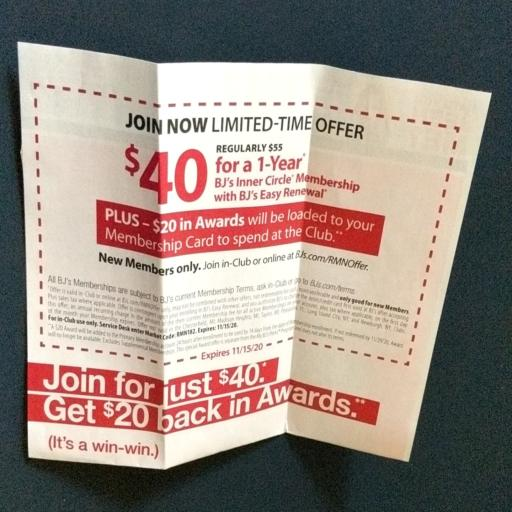paper: (0, 18, 478, 498)
